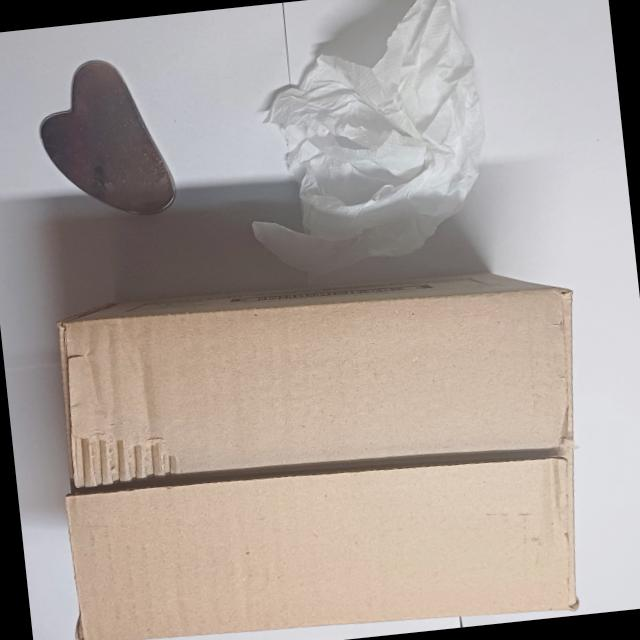CardBoard-Bio: (37, 248, 613, 640)
Steel-NonBio: (29, 49, 182, 228)
Tissue Paper-Bio: (223, 0, 498, 281)
